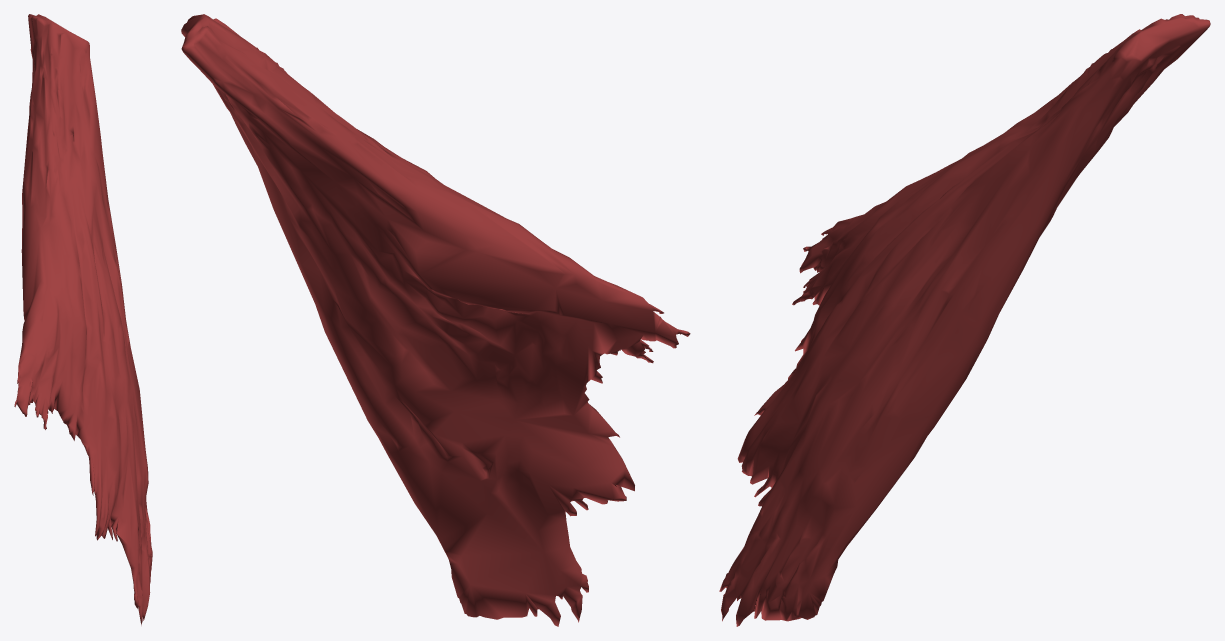
The model's file is pectoralis-minor-muscle-l.glb.
3 renders of one model, left to right at view 1: azimuth 30°, elevation 25°; view 2: azimuth 150°, elevation 25°; view 3: azimuth 270°, elevation 25°, orthographic. The views are drawn at different scales.
Parts seen in each view (by area): view 1: Pectoralis minor muscle.l; view 2: Pectoralis minor muscle.l; view 3: Pectoralis minor muscle.l.
Boxes of the visible parts, x1,y1,x2,y2 form: Pectoralis minor muscle.l: [14, 14, 152, 625]; Pectoralis minor muscle.l: [181, 14, 690, 626]; Pectoralis minor muscle.l: [719, 14, 1210, 626].
Bounding box in the file's own units: 0.0589 × 0.139 × 0.0951.
